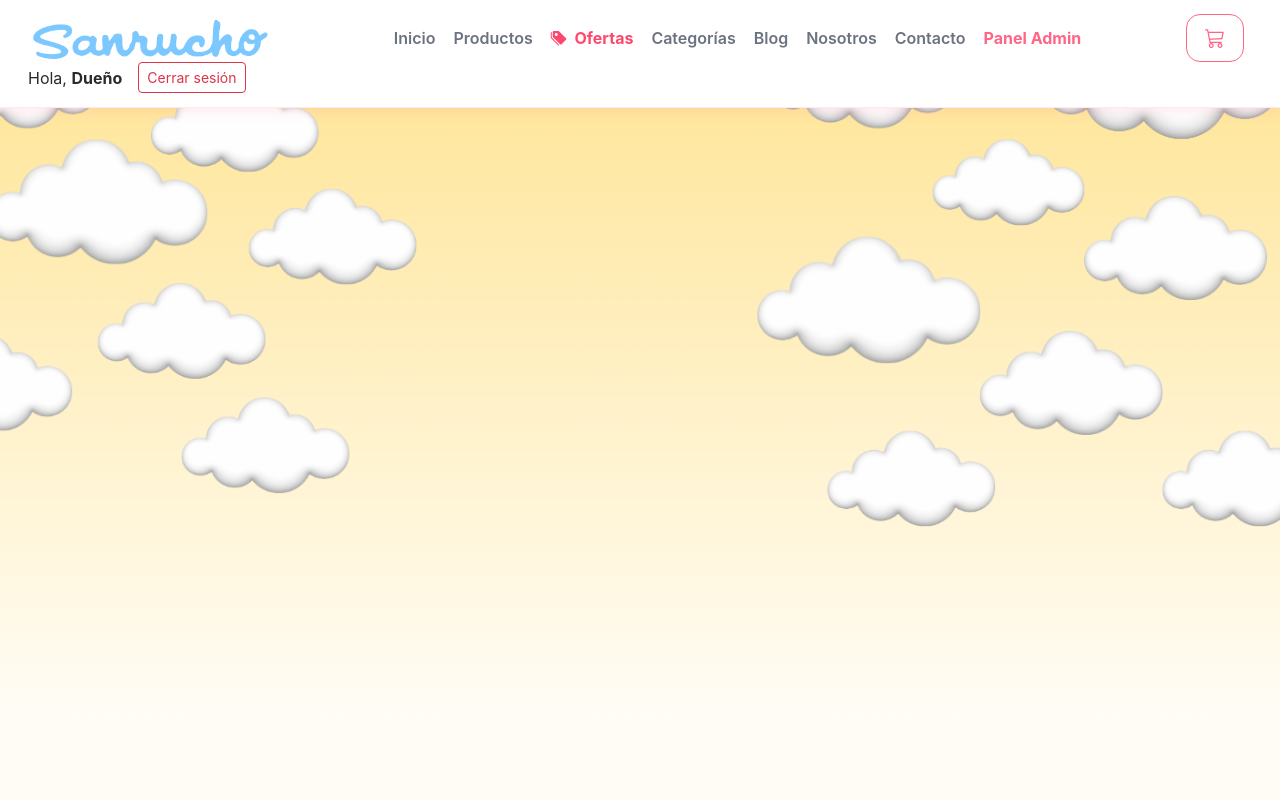
Test: Navbar (evento click en Cerrar sesión) › al hacer click en 'Cerrar sesión' elimina la sesión y muestra al invitado
The width and height of the screenshot is (1280, 800).
Click the button "Cerrar sesión".
click(192, 78)  # box left=138, top=62, right=246, bottom=93
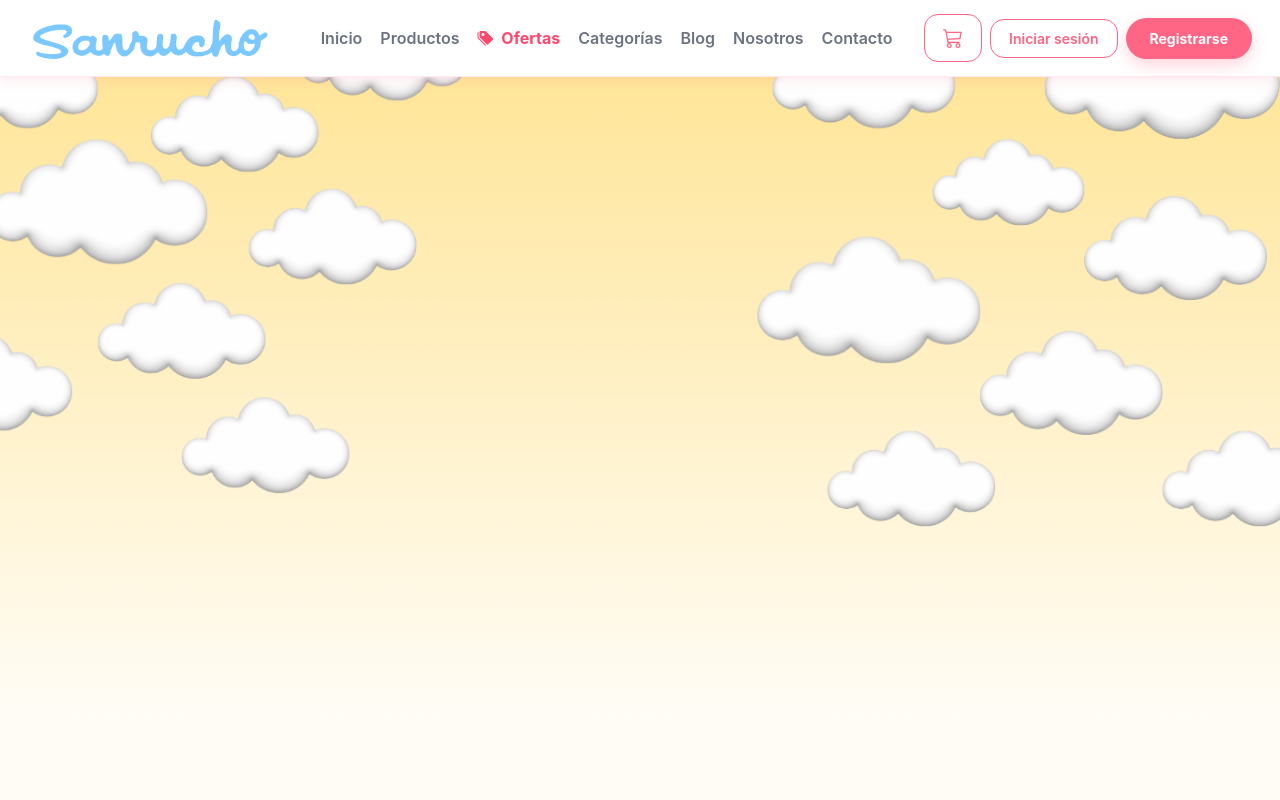
Check: the text "Iniciar sesión" is shown, box left=990, top=18, right=1118, bottom=58
Check: the text "Cerrar sesión" is gone
